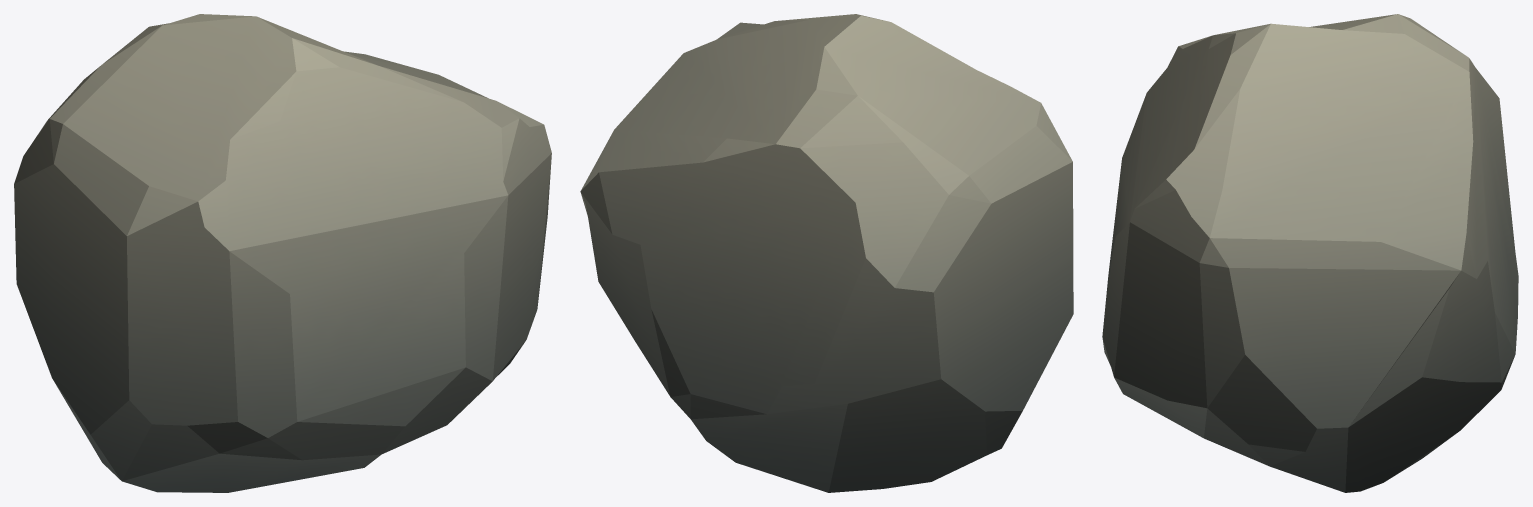
File: rock_2_01.fbx
The picture shows the model from 3 angles, left to right: view 1: azimuth 30°, elevation 25°; view 2: azimuth 150°, elevation 25°; view 3: azimuth 270°, elevation 25°; orthographic projection. The views are drawn at different scales.
Parts seen in each view (by area): view 1: rock_2_01; view 2: rock_2_01; view 3: rock_2_01.
Part boxes in pixels (bbox=[...]): rock_2_01: bbox=[14, 14, 551, 492]; rock_2_01: bbox=[580, 14, 1073, 492]; rock_2_01: bbox=[1102, 14, 1518, 492].
Bounding box in the file's own units: 38.11 × 39.22 × 32.89.
